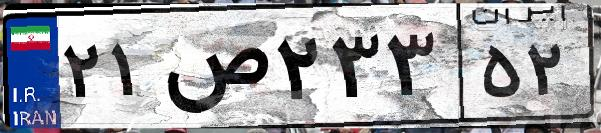1: (110, 28, 158, 98)
2: (270, 28, 330, 110), (57, 26, 110, 100), (525, 38, 570, 115)
3: (385, 28, 445, 110), (330, 28, 385, 110)
5: (475, 38, 525, 113)
ص: (158, 20, 270, 120)
